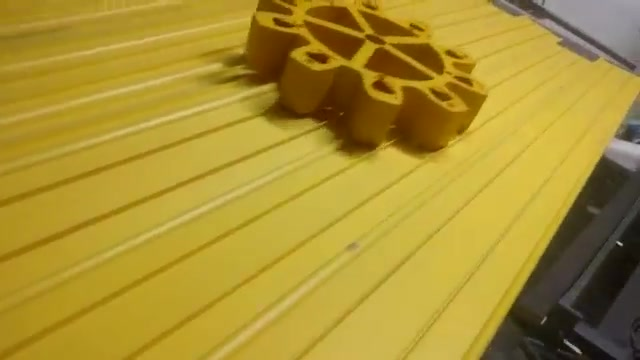gear: (234, 1, 496, 158)
